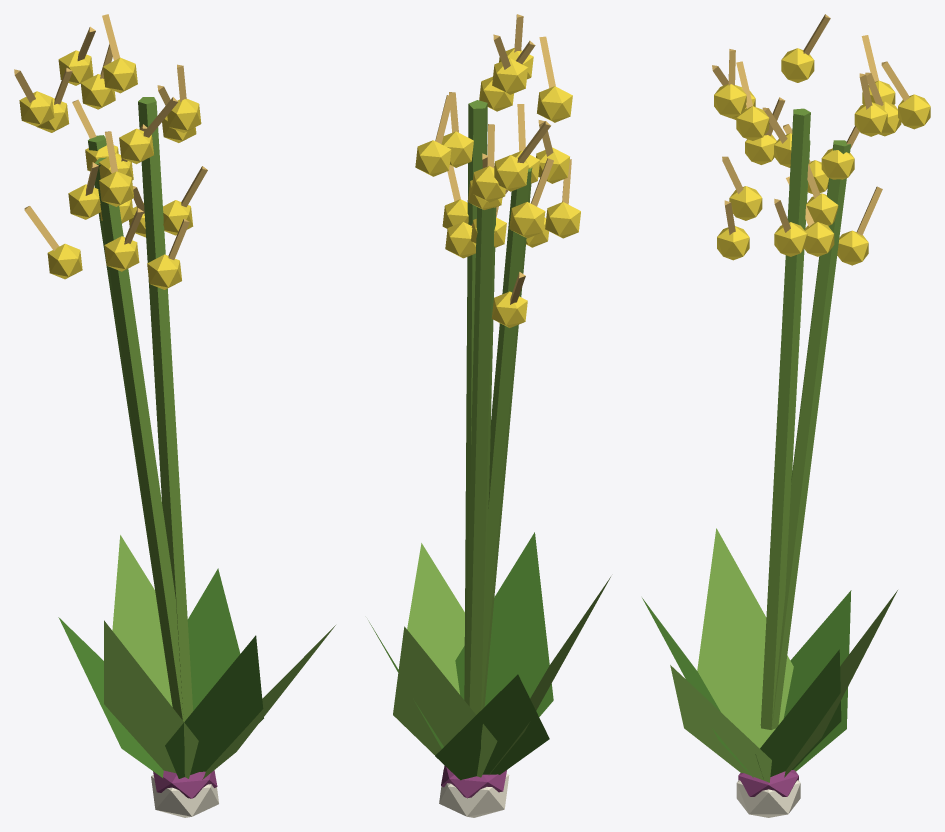
Rendered from turnip_bolt.glb.
3 renders of one model, left to right at view 1: azimuth 30°, elevation 25°; view 2: azimuth 150°, elevation 25°; view 3: azimuth 270°, elevation 25°, orthographic. The views are drawn at different scales.
Visible parts, largest first — view 1: turnip; view 2: turnip; view 3: turnip.
Boxes of the visible parts, bbox=[...] form: turnip: bbox=[14, 14, 335, 817]; turnip: bbox=[368, 14, 610, 817]; turnip: bbox=[642, 14, 930, 817].
Size of the model in its own units: 0.2361 by 0.7995 by 0.2695.
